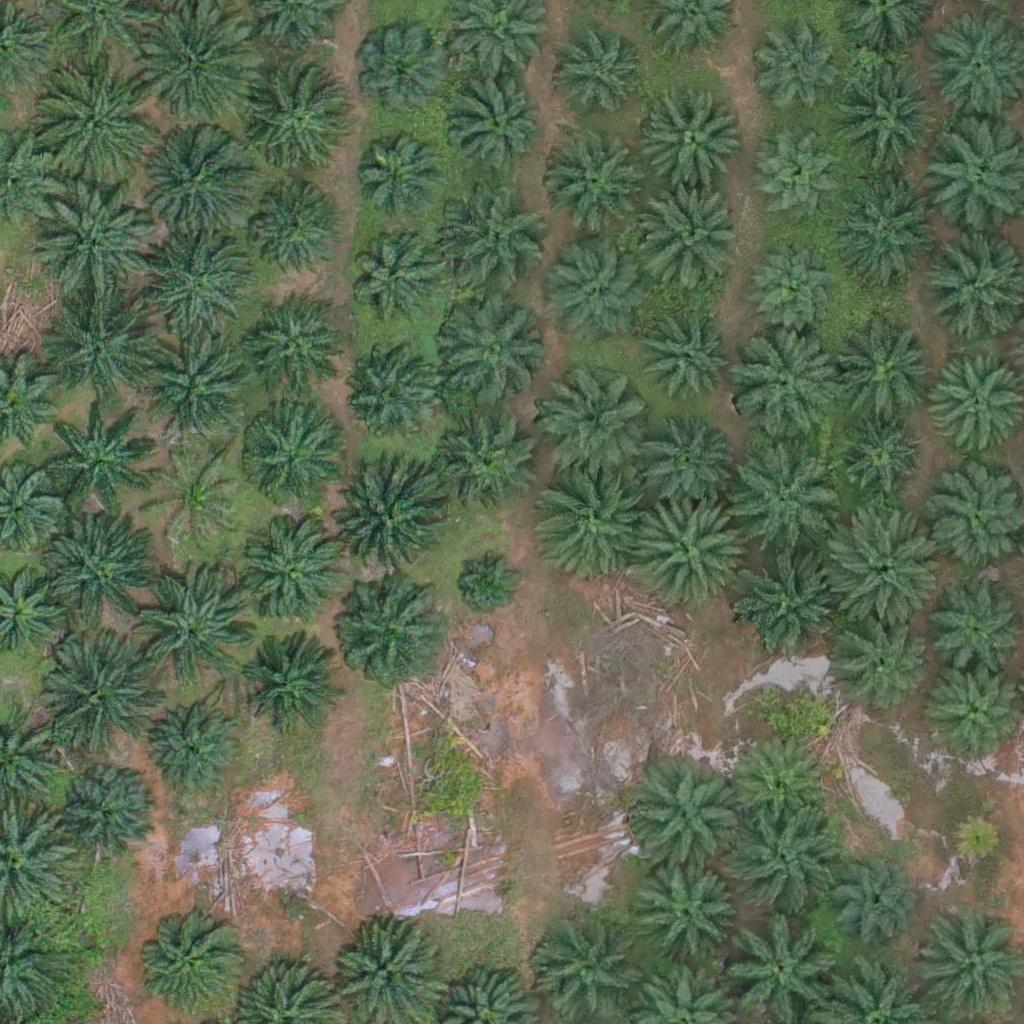Kelapa_Sawit: (44, 639, 157, 753), (723, 430, 836, 543), (736, 547, 849, 660), (630, 494, 743, 607), (535, 235, 648, 348), (535, 354, 648, 467), (527, 468, 640, 581), (630, 763, 743, 876), (432, 295, 545, 408), (331, 464, 444, 577), (45, 513, 158, 626), (35, 187, 148, 300), (144, 8, 257, 121), (43, 68, 156, 181), (726, 328, 838, 442), (536, 128, 648, 242), (239, 514, 351, 628), (140, 225, 252, 339), (141, 338, 253, 452), (134, 903, 246, 1017), (830, 60, 942, 174), (148, 122, 260, 236), (831, 178, 943, 291), (828, 318, 940, 431), (828, 506, 940, 619), (639, 181, 751, 294), (731, 803, 843, 916), (439, 178, 551, 291), (333, 580, 445, 693), (137, 569, 249, 682), (42, 400, 154, 513), (46, 285, 158, 398), (634, 82, 746, 195), (242, 73, 354, 186), (824, 616, 924, 717), (637, 413, 737, 514), (641, 300, 741, 401), (730, 733, 830, 834), (638, 867, 738, 968), (441, 414, 541, 515), (338, 346, 438, 447), (147, 442, 247, 543), (54, 760, 154, 861), (551, 29, 651, 130), (351, 21, 451, 122), (240, 633, 340, 733), (244, 304, 344, 404), (237, 405, 337, 505), (143, 706, 243, 806), (447, 76, 547, 176), (832, 414, 920, 502), (749, 244, 837, 332), (837, 853, 925, 941), (349, 233, 437, 321), (246, 187, 334, 275), (757, 29, 845, 117), (352, 130, 440, 218), (752, 134, 839, 222), (451, 543, 526, 618), (942, 811, 1005, 874)
